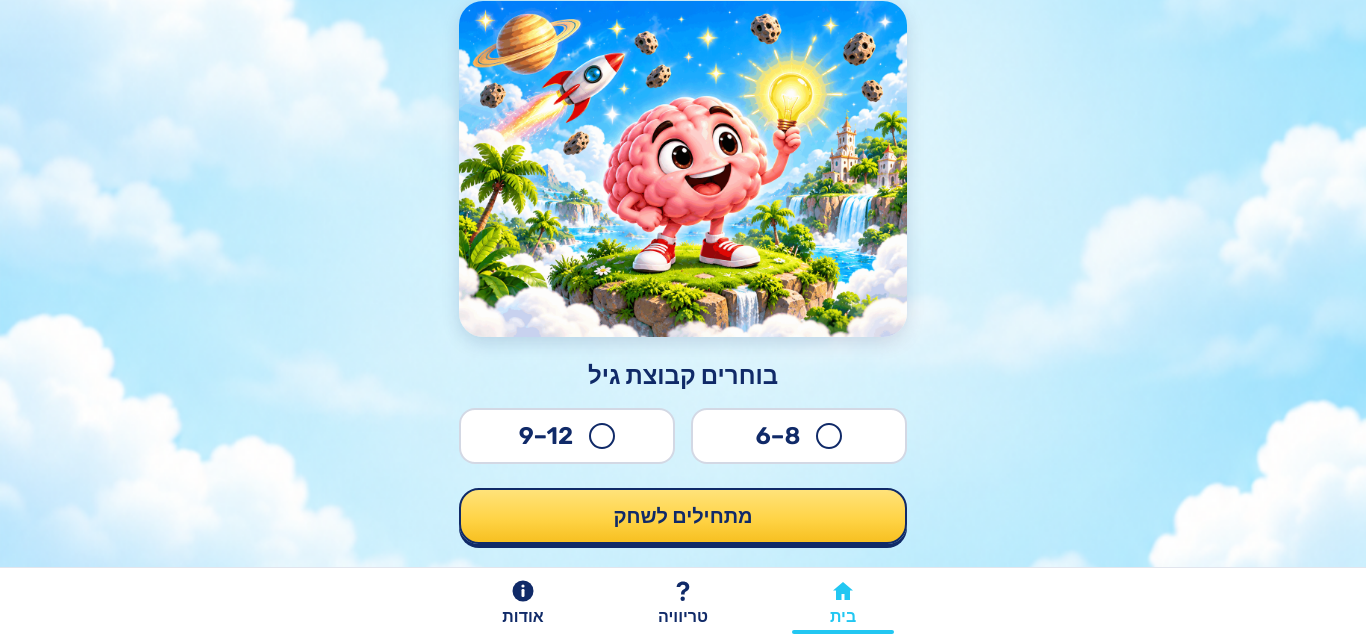
Test case: asking for a question › sends age group and trimmed topic, shows loading and disables the button
(page scrolled)
Click the radio button labelled "9–12". click: [602, 436]
box: [589,423,615,449]
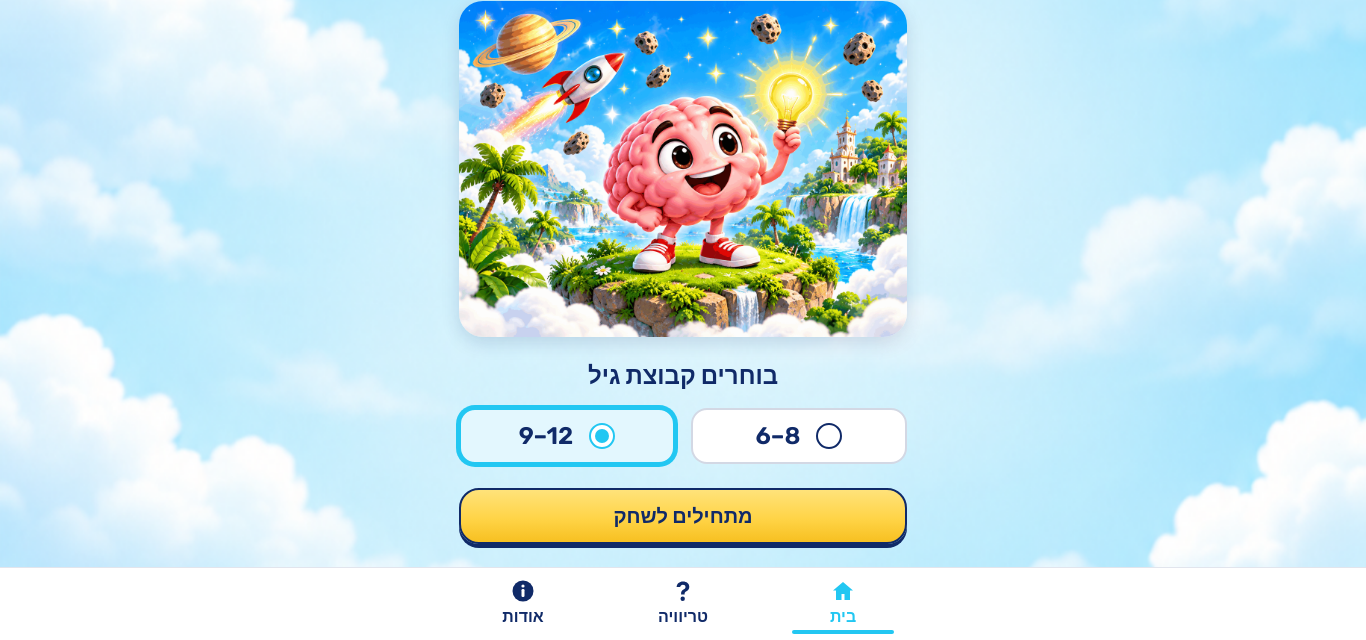
Click the button "מתחילים לשחק". click: [683, 516]
box: [459,488,907,544]
(page scrolled)
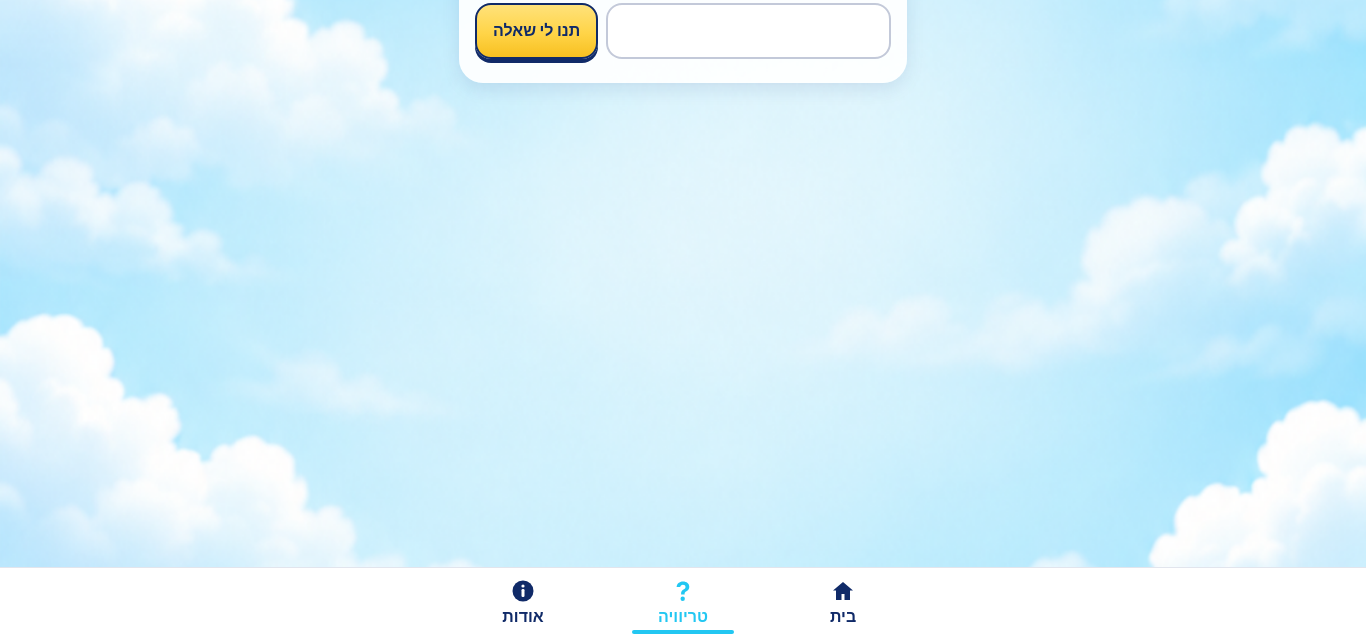
Type " חלל " into the field labelled "על איזה נושא נשחק?". click: [749, 31]
box: [606,3,891,59]
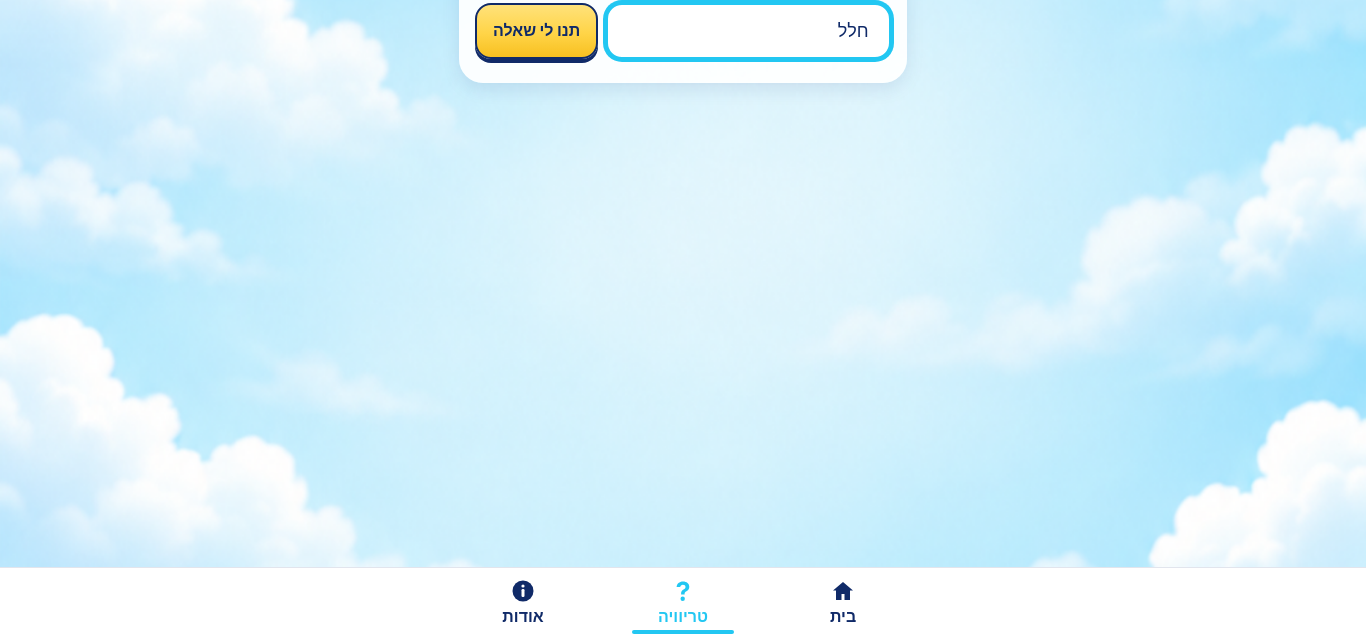
Click the button "תנו לי שאלה". click: [537, 31]
box: [475,3,598,59]
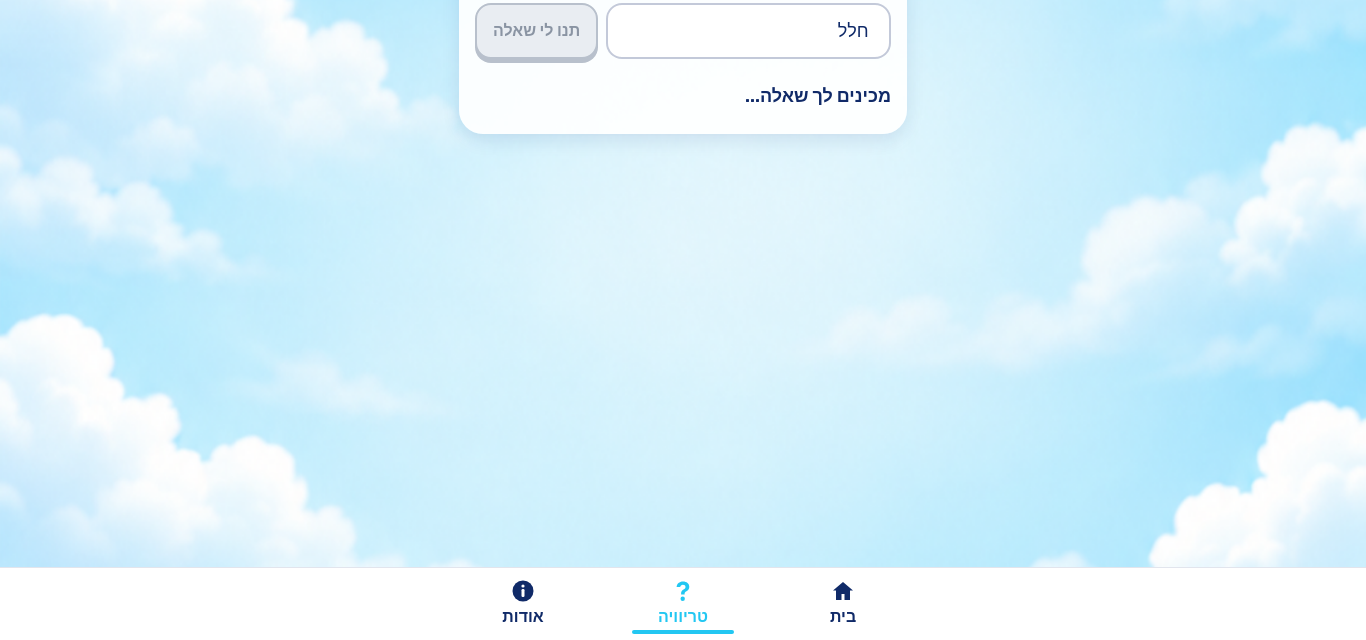
Now the message reads "מכינים לך שאלה...", box [745,85,891,107]
Now the button "תנו לי שאלה" is disabled
Click the button "תנו לי שאלה". click: [537, 31]
box: [475,3,598,59]
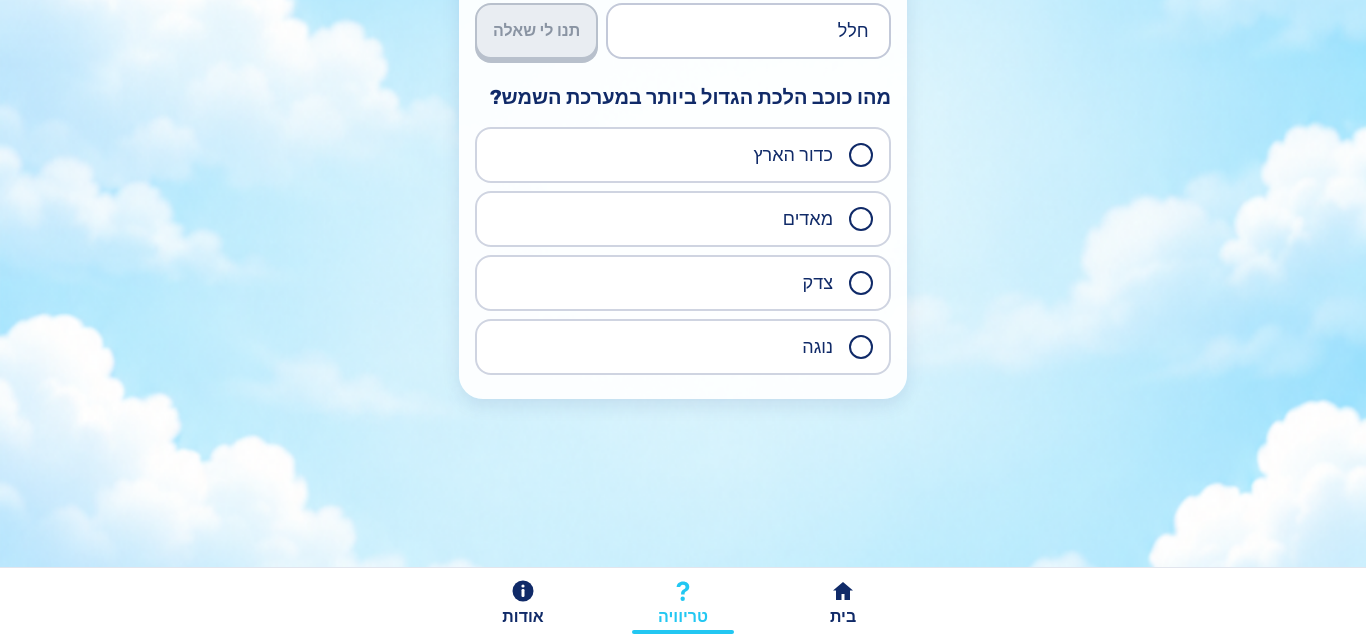
Now the heading "מהו כוכב הלכת הגדול ביותר במערכת השמש?" is shown, box [475,83,891,111]
